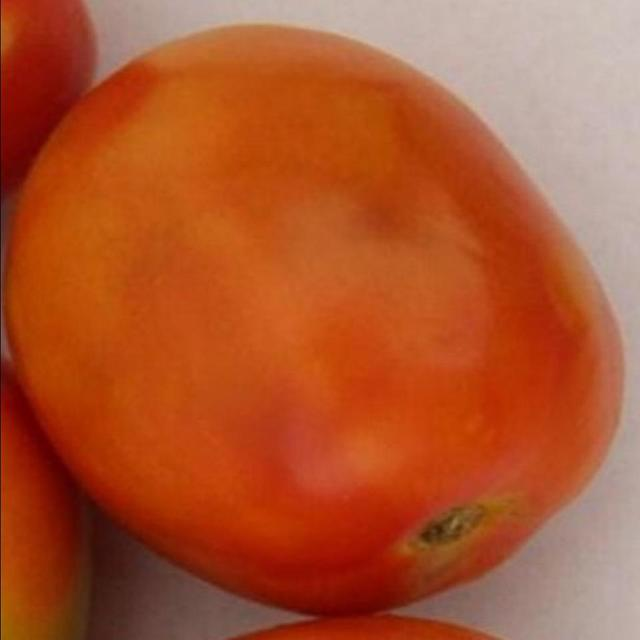Spotted wilt Virus Fruit: (0, 19, 408, 414)
